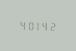four: (18, 19, 25, 30), (42, 20, 49, 31)
one: (34, 19, 41, 31)
two: (50, 20, 57, 31)
zero: (26, 19, 33, 30)
